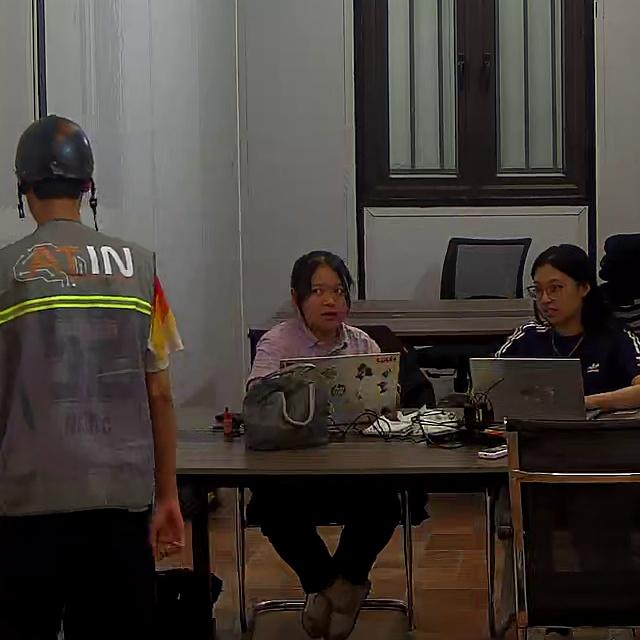helmet: (15, 114, 98, 187)
no_helmet: (289, 250, 355, 306), (531, 243, 598, 292)
none: (245, 312, 382, 393), (494, 318, 638, 393)
vest: (0, 223, 161, 517)
